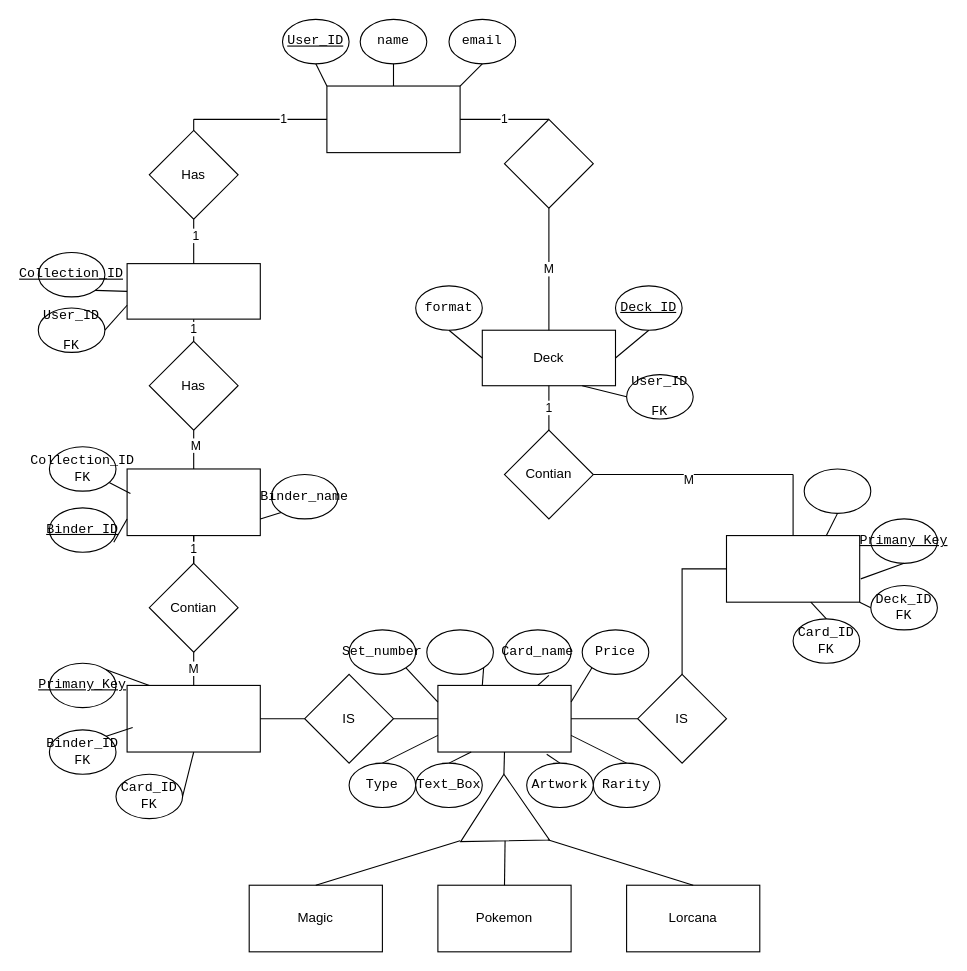
This 967x971 diagram has some shape labels left out. The centre of each missing label's shape, as x and y in pixels:
"Binder" goes at [193,502].
"Binder_Card" goes at [193,718].
"Card" goes at [504,718].
"Card_ID" goes at [459,651].
"Collection" goes at [193,291].
"Deck_Card" goes at [792,568].
"deck_name" goes at [837,490].
"IS A" goes at [504,807].
"Makes" goes at [548,163].
"User" goes at [393,119].
